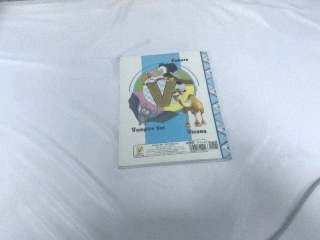book: (114, 50, 235, 167)
